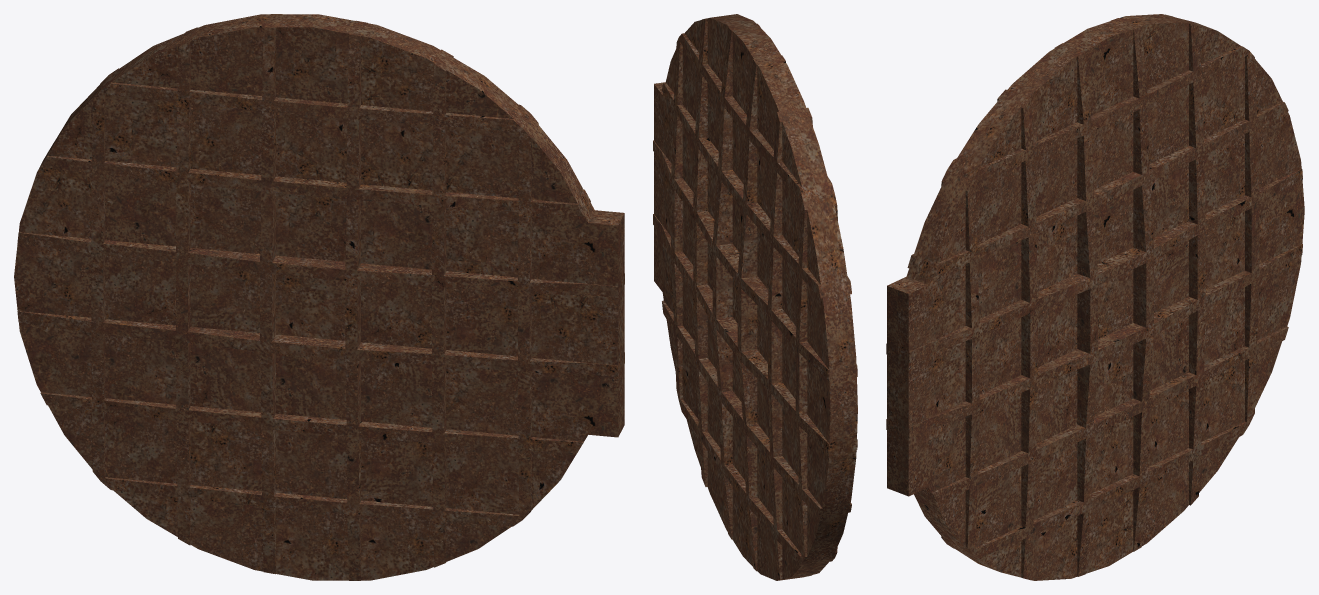
File: water_gate_animation.fbx
3 renders of one model, left to right at view 1: azimuth 30°, elevation 25°; view 2: azimuth 150°, elevation 25°; view 3: azimuth 270°, elevation 25°, orthographic. The views are drawn at different scales.
Visible parts, largest first — view 1: zelezna_vrata; view 2: zelezna_vrata; view 3: zelezna_vrata.
Boxes of the visible parts, x1=… form: zelezna_vrata: x1=14, y1=14, x2=624, y2=580; zelezna_vrata: x1=653, y1=14, x2=857, y2=580; zelezna_vrata: x1=886, y1=14, x2=1304, y2=580.
Size of the model in its own units: 314 by 400 by 287.
1 material, 1 textured.
